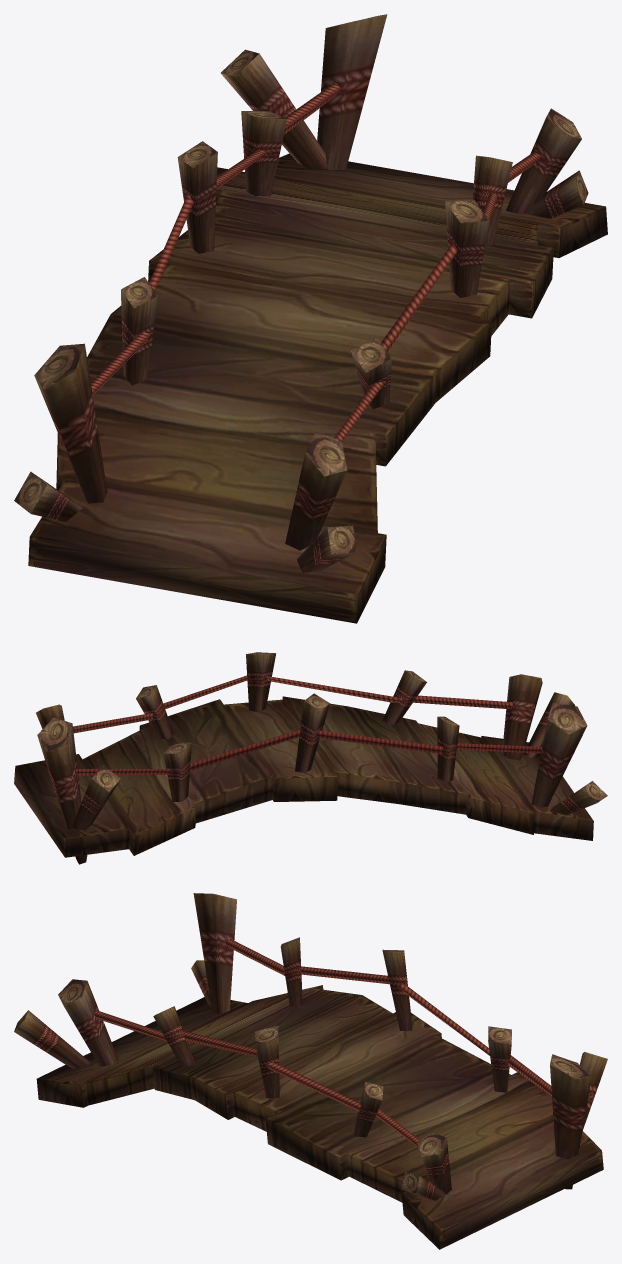
The model's file is environment_building_muqiao_001.FBX.
3 renders of one model, top to bottom at view 1: azimuth 30°, elevation 25°; view 2: azimuth 150°, elevation 25°; view 3: azimuth 270°, elevation 25°, orthographic. The views are drawn at different scales.
Visible parts, largest first — view 1: environment_building_muqiao_001_01, environment_building_muqiao_001_02, environment_building_muqiao_001_03; view 2: environment_building_muqiao_001_01, environment_building_muqiao_001_02, environment_building_muqiao_001_03; view 3: environment_building_muqiao_001_01, environment_building_muqiao_001_02, environment_building_muqiao_001_03.
Boxes of the visible parts, x1=… form: environment_building_muqiao_001_01: x1=28, y1=82, x2=607, y2=623; environment_building_muqiao_001_02: x1=31, y1=14, x2=583, y2=572; environment_building_muqiao_001_03: x1=14, y1=14, x2=588, y2=554; environment_building_muqiao_001_01: x1=14, y1=675, x2=593, y2=857; environment_building_muqiao_001_02: x1=36, y1=653, x2=596, y2=864; environment_building_muqiao_001_03: x1=37, y1=652, x2=607, y2=802; environment_building_muqiao_001_01: x1=36, y1=938, x2=603, y2=1249; environment_building_muqiao_001_02: x1=14, y1=893, x2=607, y2=1200; environment_building_muqiao_001_03: x1=14, y1=937, x2=590, y2=1193.
Size of the model in its own units: 943 by 316 by 921.
